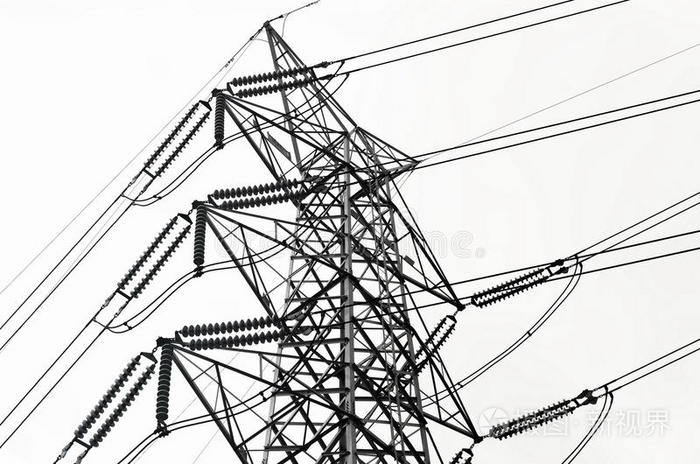insulator: (77, 359, 154, 447), (119, 216, 190, 294), (143, 100, 208, 174), (180, 312, 284, 350), (492, 394, 575, 438), (470, 267, 550, 307), (213, 177, 305, 208), (234, 62, 313, 98), (417, 318, 454, 369), (156, 343, 177, 420), (191, 205, 207, 267), (210, 94, 229, 143)
